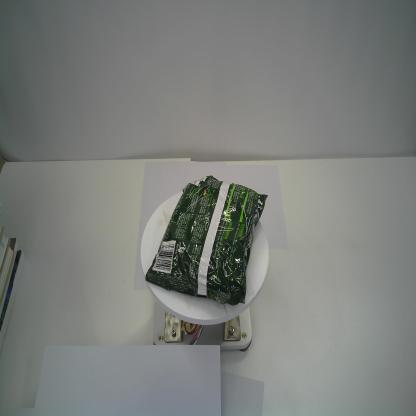Instant Noodles: (145, 176, 268, 306)
